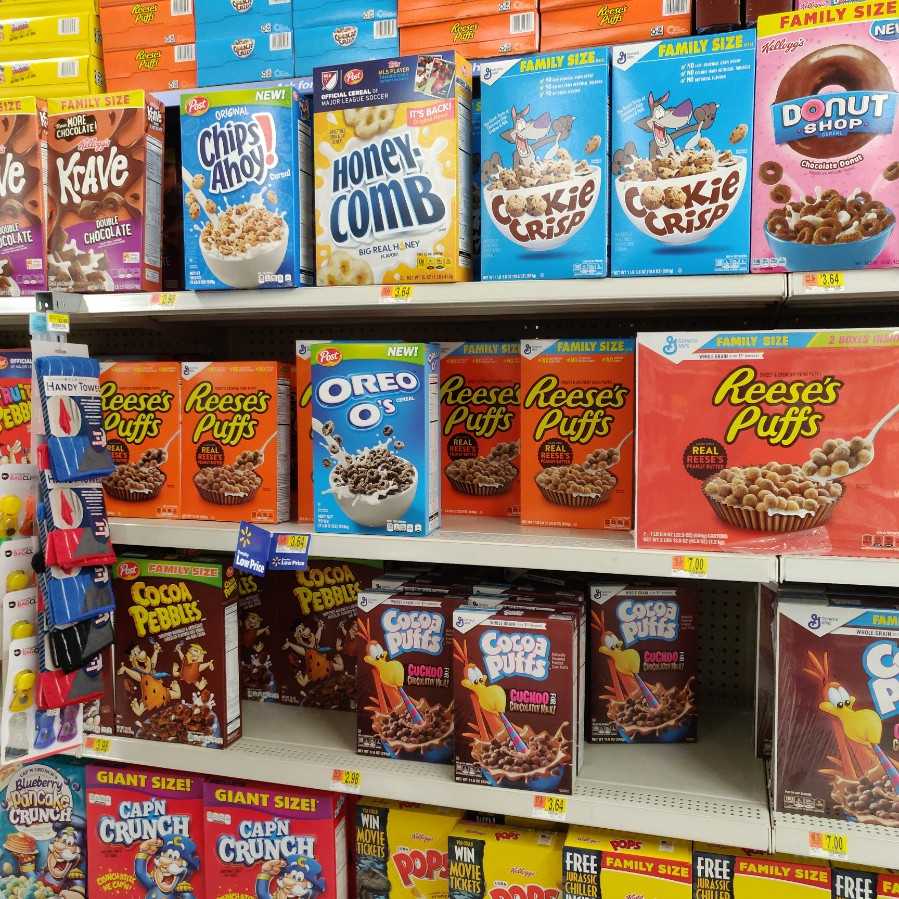Chips Ahoys-565717529: (175, 91, 313, 285)
Honey Comb- 009288857: (310, 67, 466, 277), (307, 340, 432, 532)
